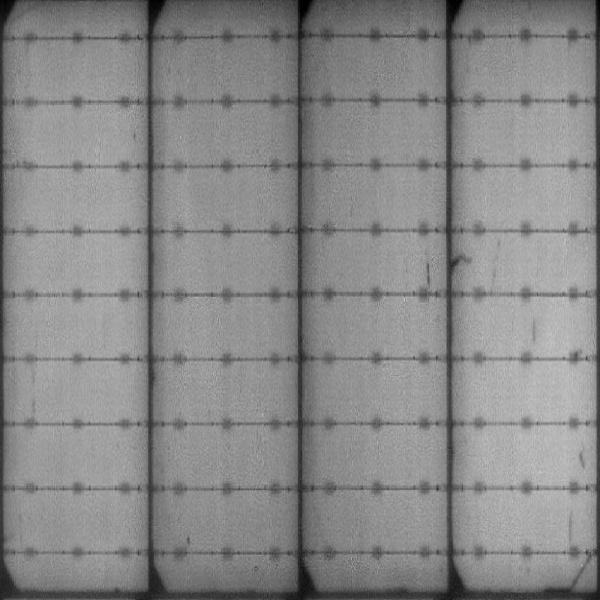scratch: (569, 553, 593, 588), (419, 259, 436, 296), (528, 309, 539, 351)
